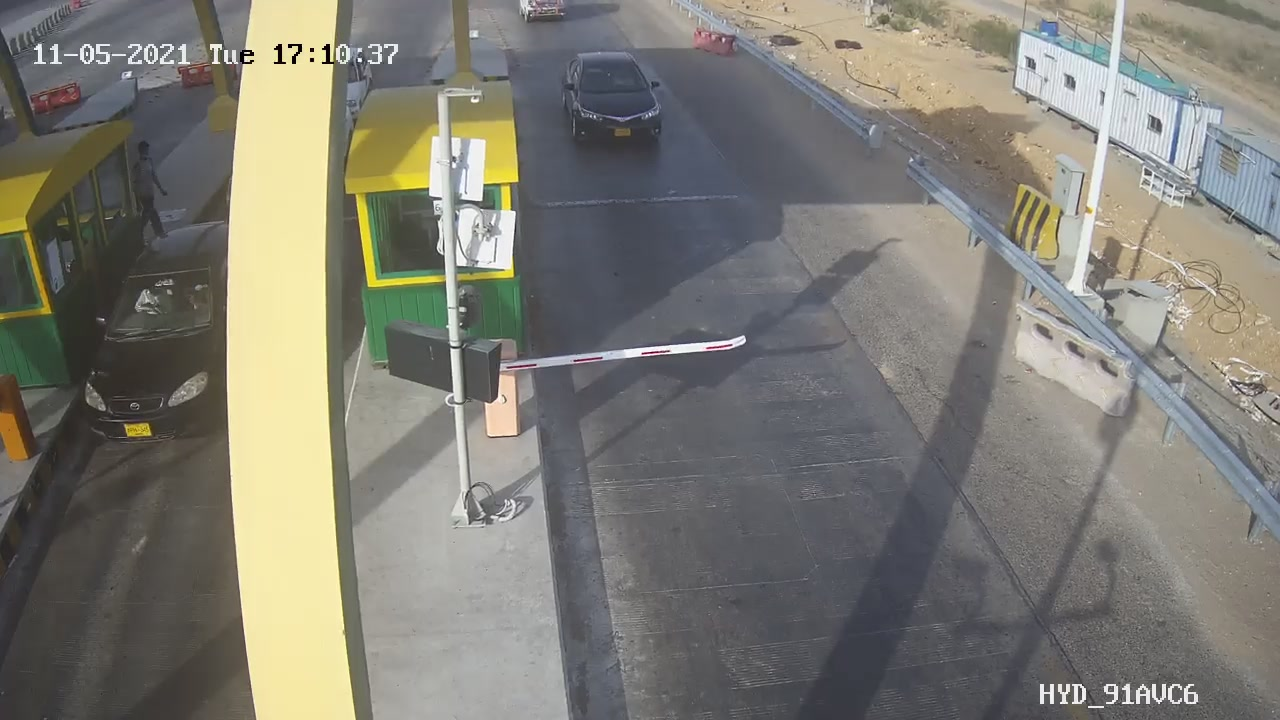F1: (548, 39, 681, 162)
